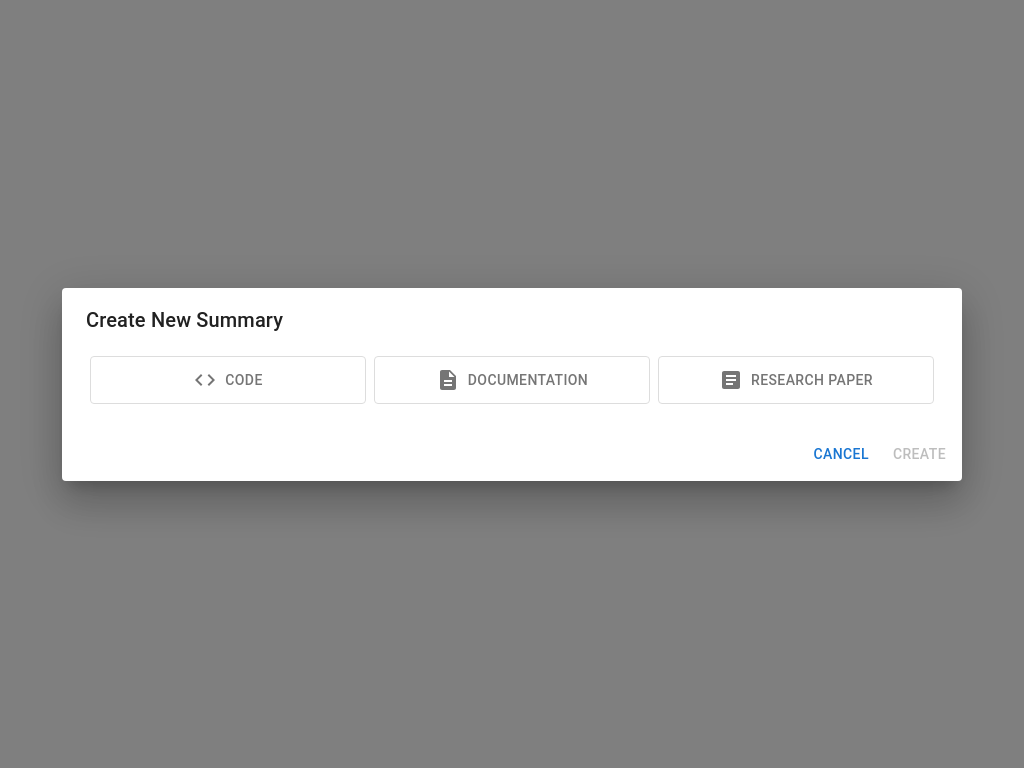
Test: NewSummaryDialog Basic Rendering › displays type selection buttons and handles selection
Click the button "Code".
click(228, 380)  # box [90,356,366,404]
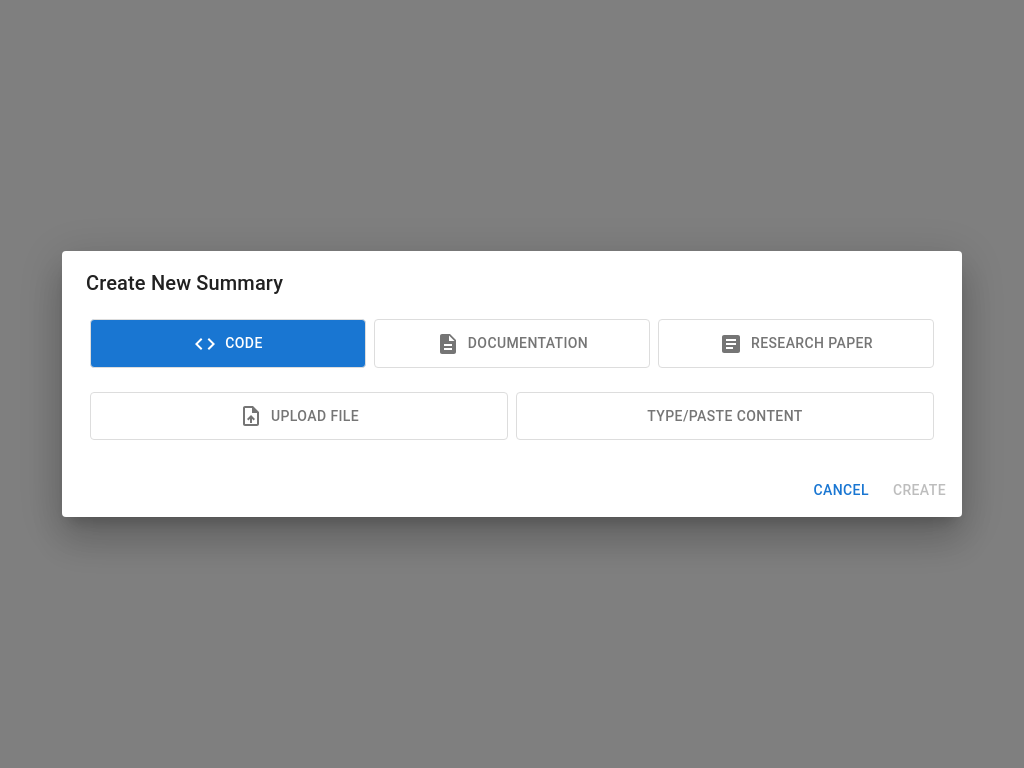
Check: the button "Upload File" is shown, box [90,392,508,440]
Check: the button "Type/Paste Content" is shown, box [516,392,934,440]
